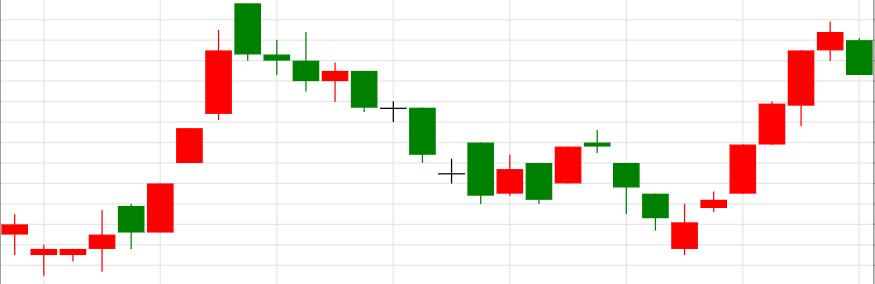three_white_soldiers_rise: (584, 49, 815, 256)
